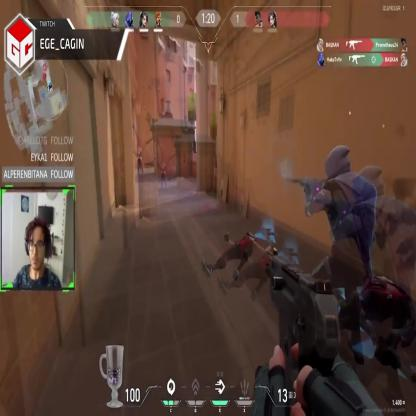enemy: (136, 145, 143, 177)
enemy_head: (138, 146, 140, 152)
